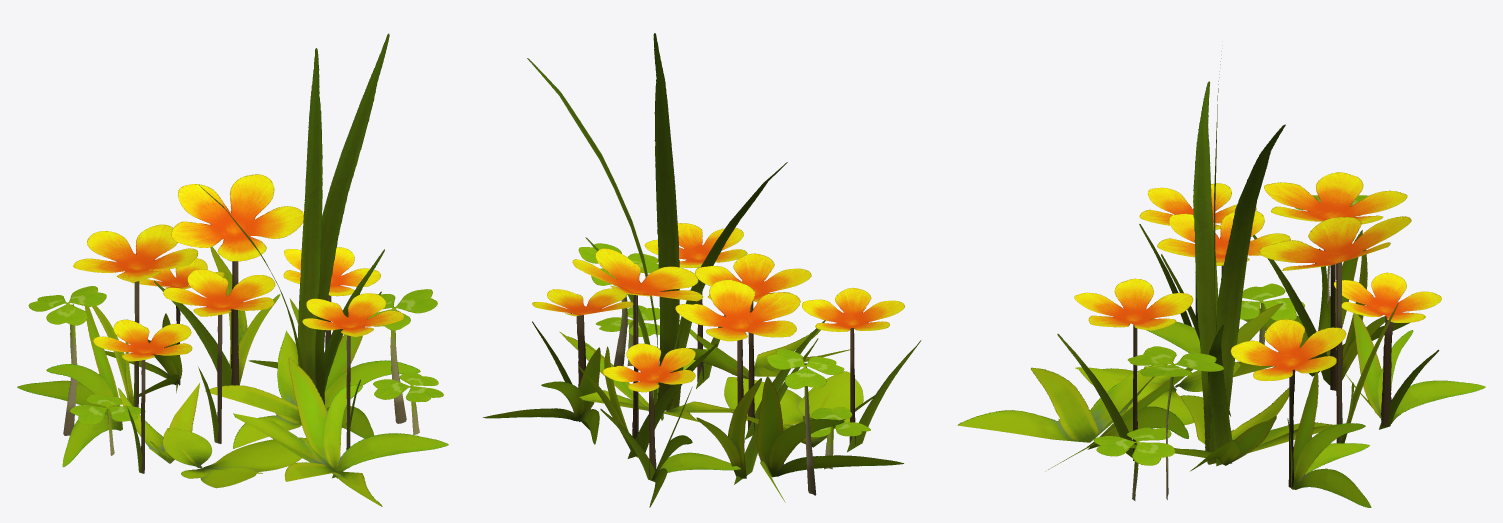
The model's file is flower3.fbx.
3 views of the same model, side by side, from view 1: azimuth 30°, elevation 25°; view 2: azimuth 150°, elevation 25°; view 3: azimuth 270°, elevation 25° (orthographic). The views are drawn at different scales.
Visible parts, largest first — view 1: flower3; view 2: flower3; view 3: flower3.
Part boxes in pixels (left/top/right/bottom): flower3: left=17, top=33, right=448, bottom=506; flower3: left=483, top=33, right=921, bottom=507; flower3: left=957, top=51, right=1485, bottom=507.
Size of the model in its own units: 64.09 by 68.43 by 71.68.
1 material, 1 textured.
